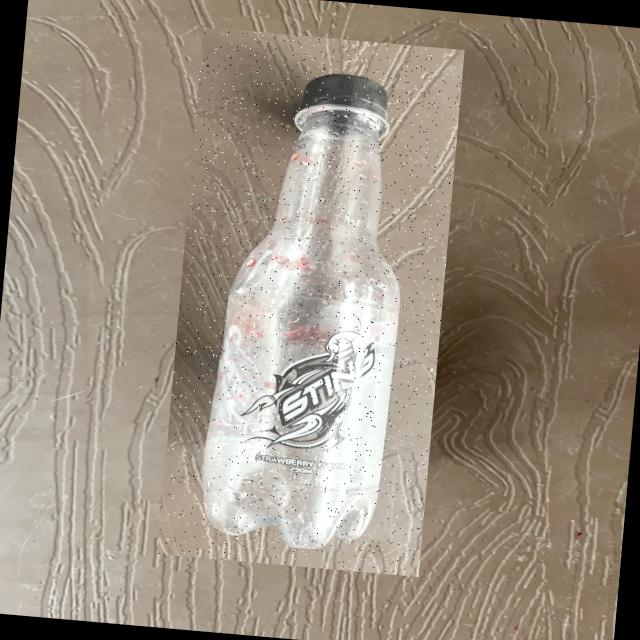REJECT: (156, 26, 463, 576)
